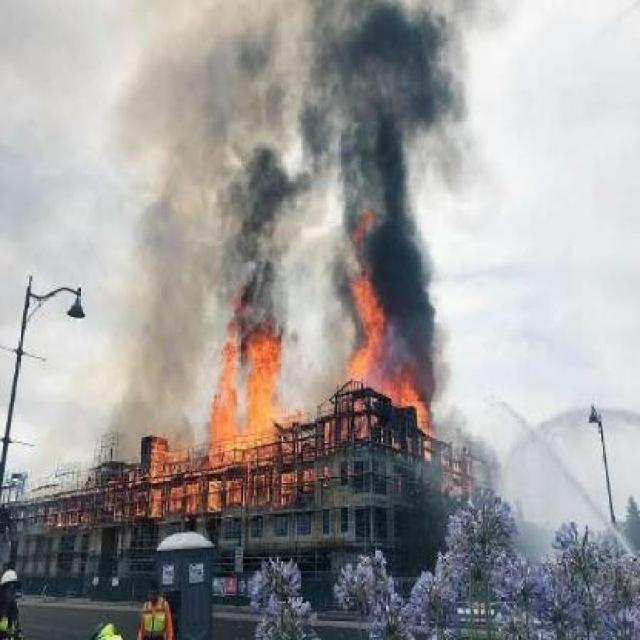Fire: (324, 208, 440, 429), (38, 442, 322, 512), (198, 264, 281, 474)
Smoke: (110, 10, 437, 378)
